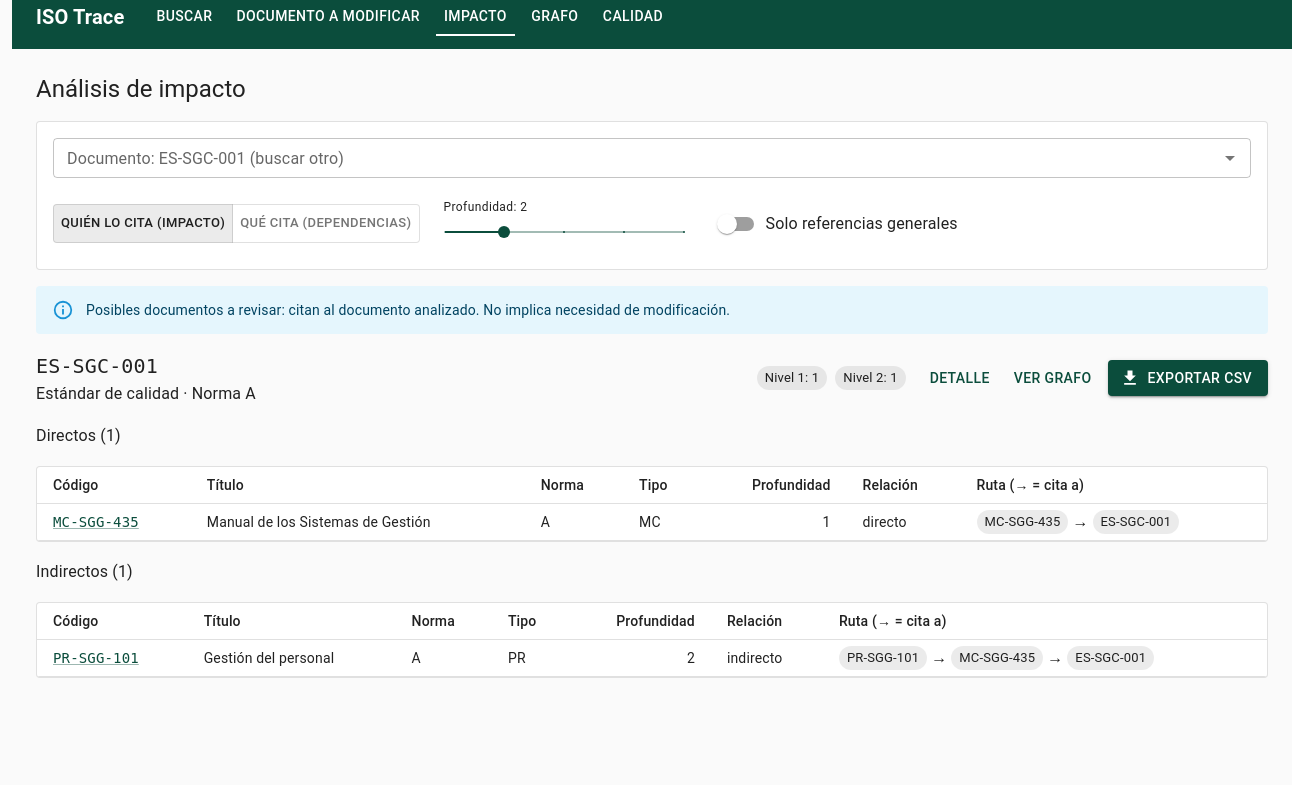
Test: App › conserva norma y documento al cambiar de sección
The image size is (1292, 785).
Click the link "Grafo" at (555, 16), box [531,8,578,24]
(page scrolled)
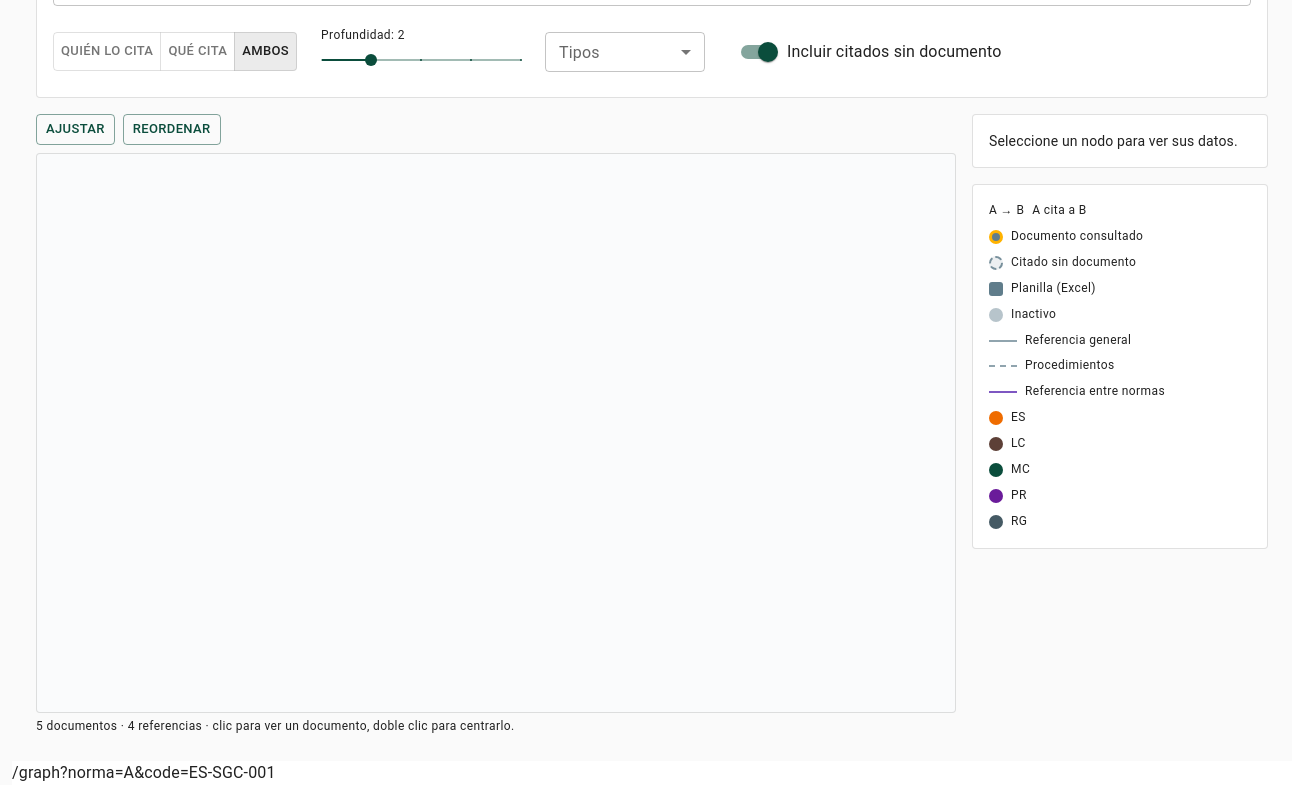
Expected: the text with test id "location" reads "/graph?norma=A&code=ES-SGC-001", [12,763,276,782]
